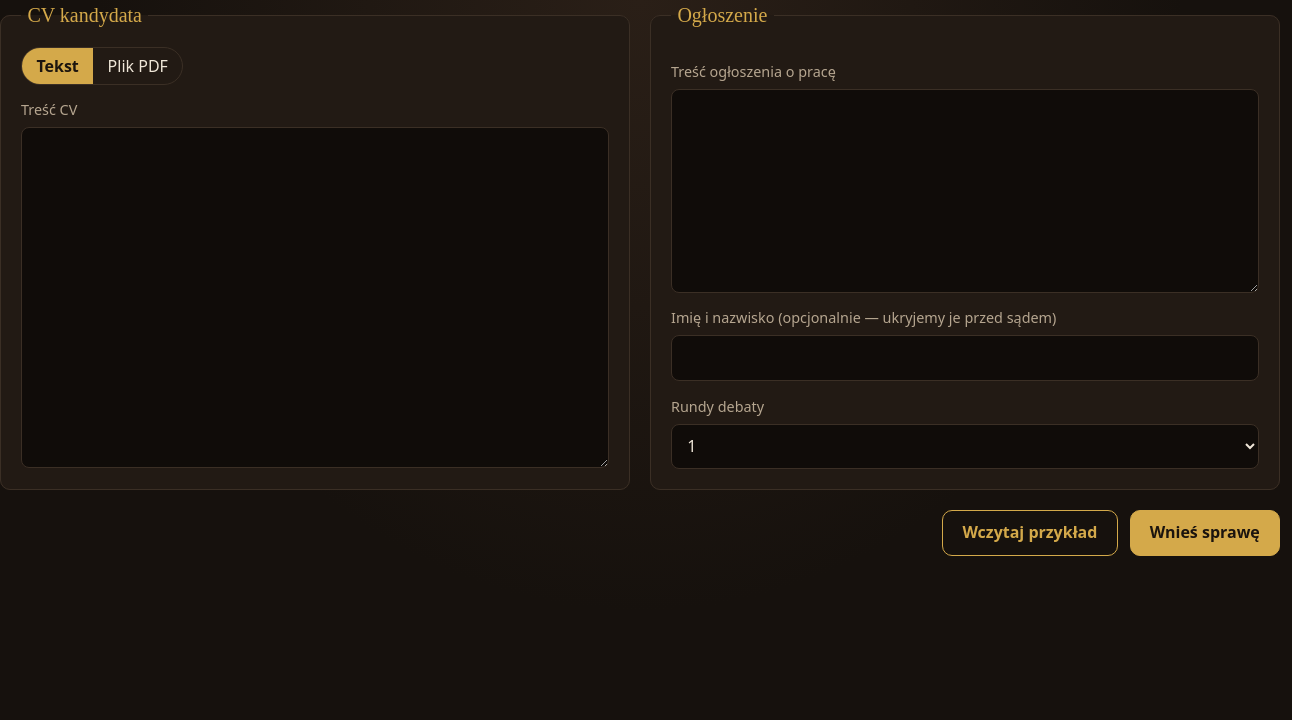
Test: FilingForm › bledy formularza blokuja wyslanie i sa powiazane z formularzem
The image size is (1292, 720).
Click the button "Wnieś sprawę" at [1205, 533], box [1130, 510, 1280, 556]
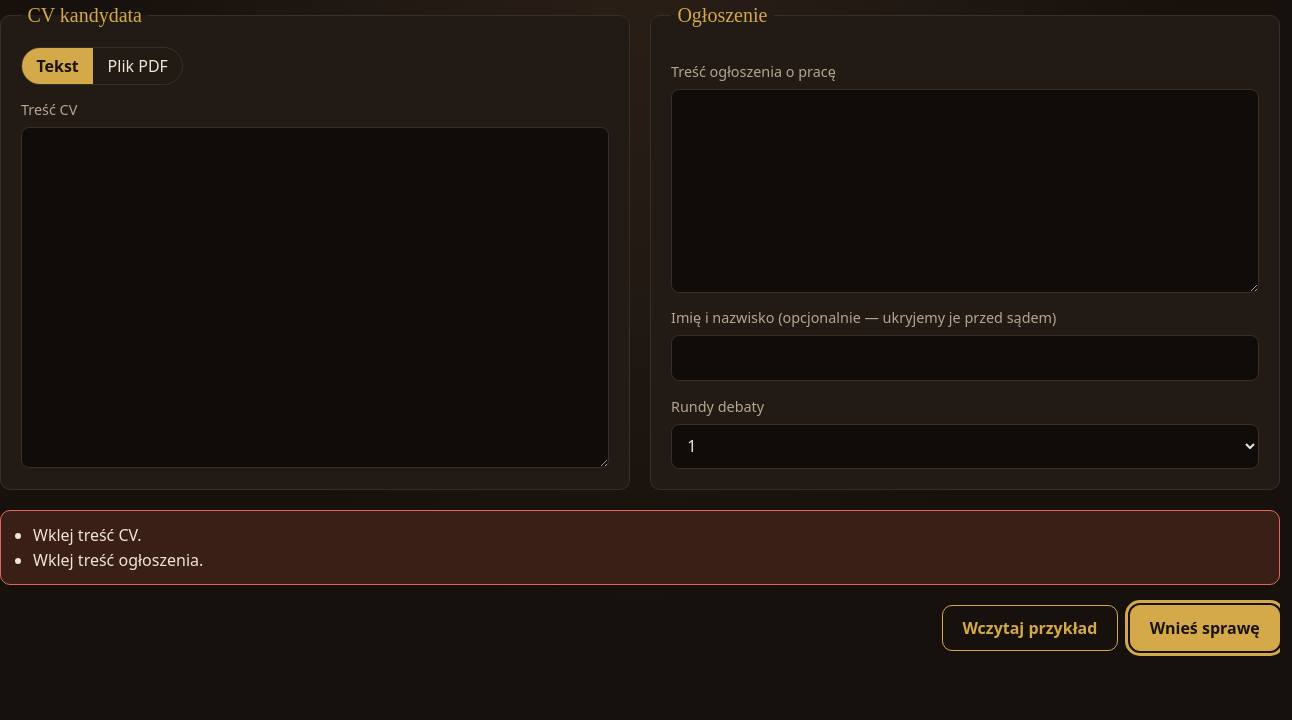
Result: the message reads "Wklej treść CV. Wklej treść ogłoszenia." at [0, 510, 1280, 585]
